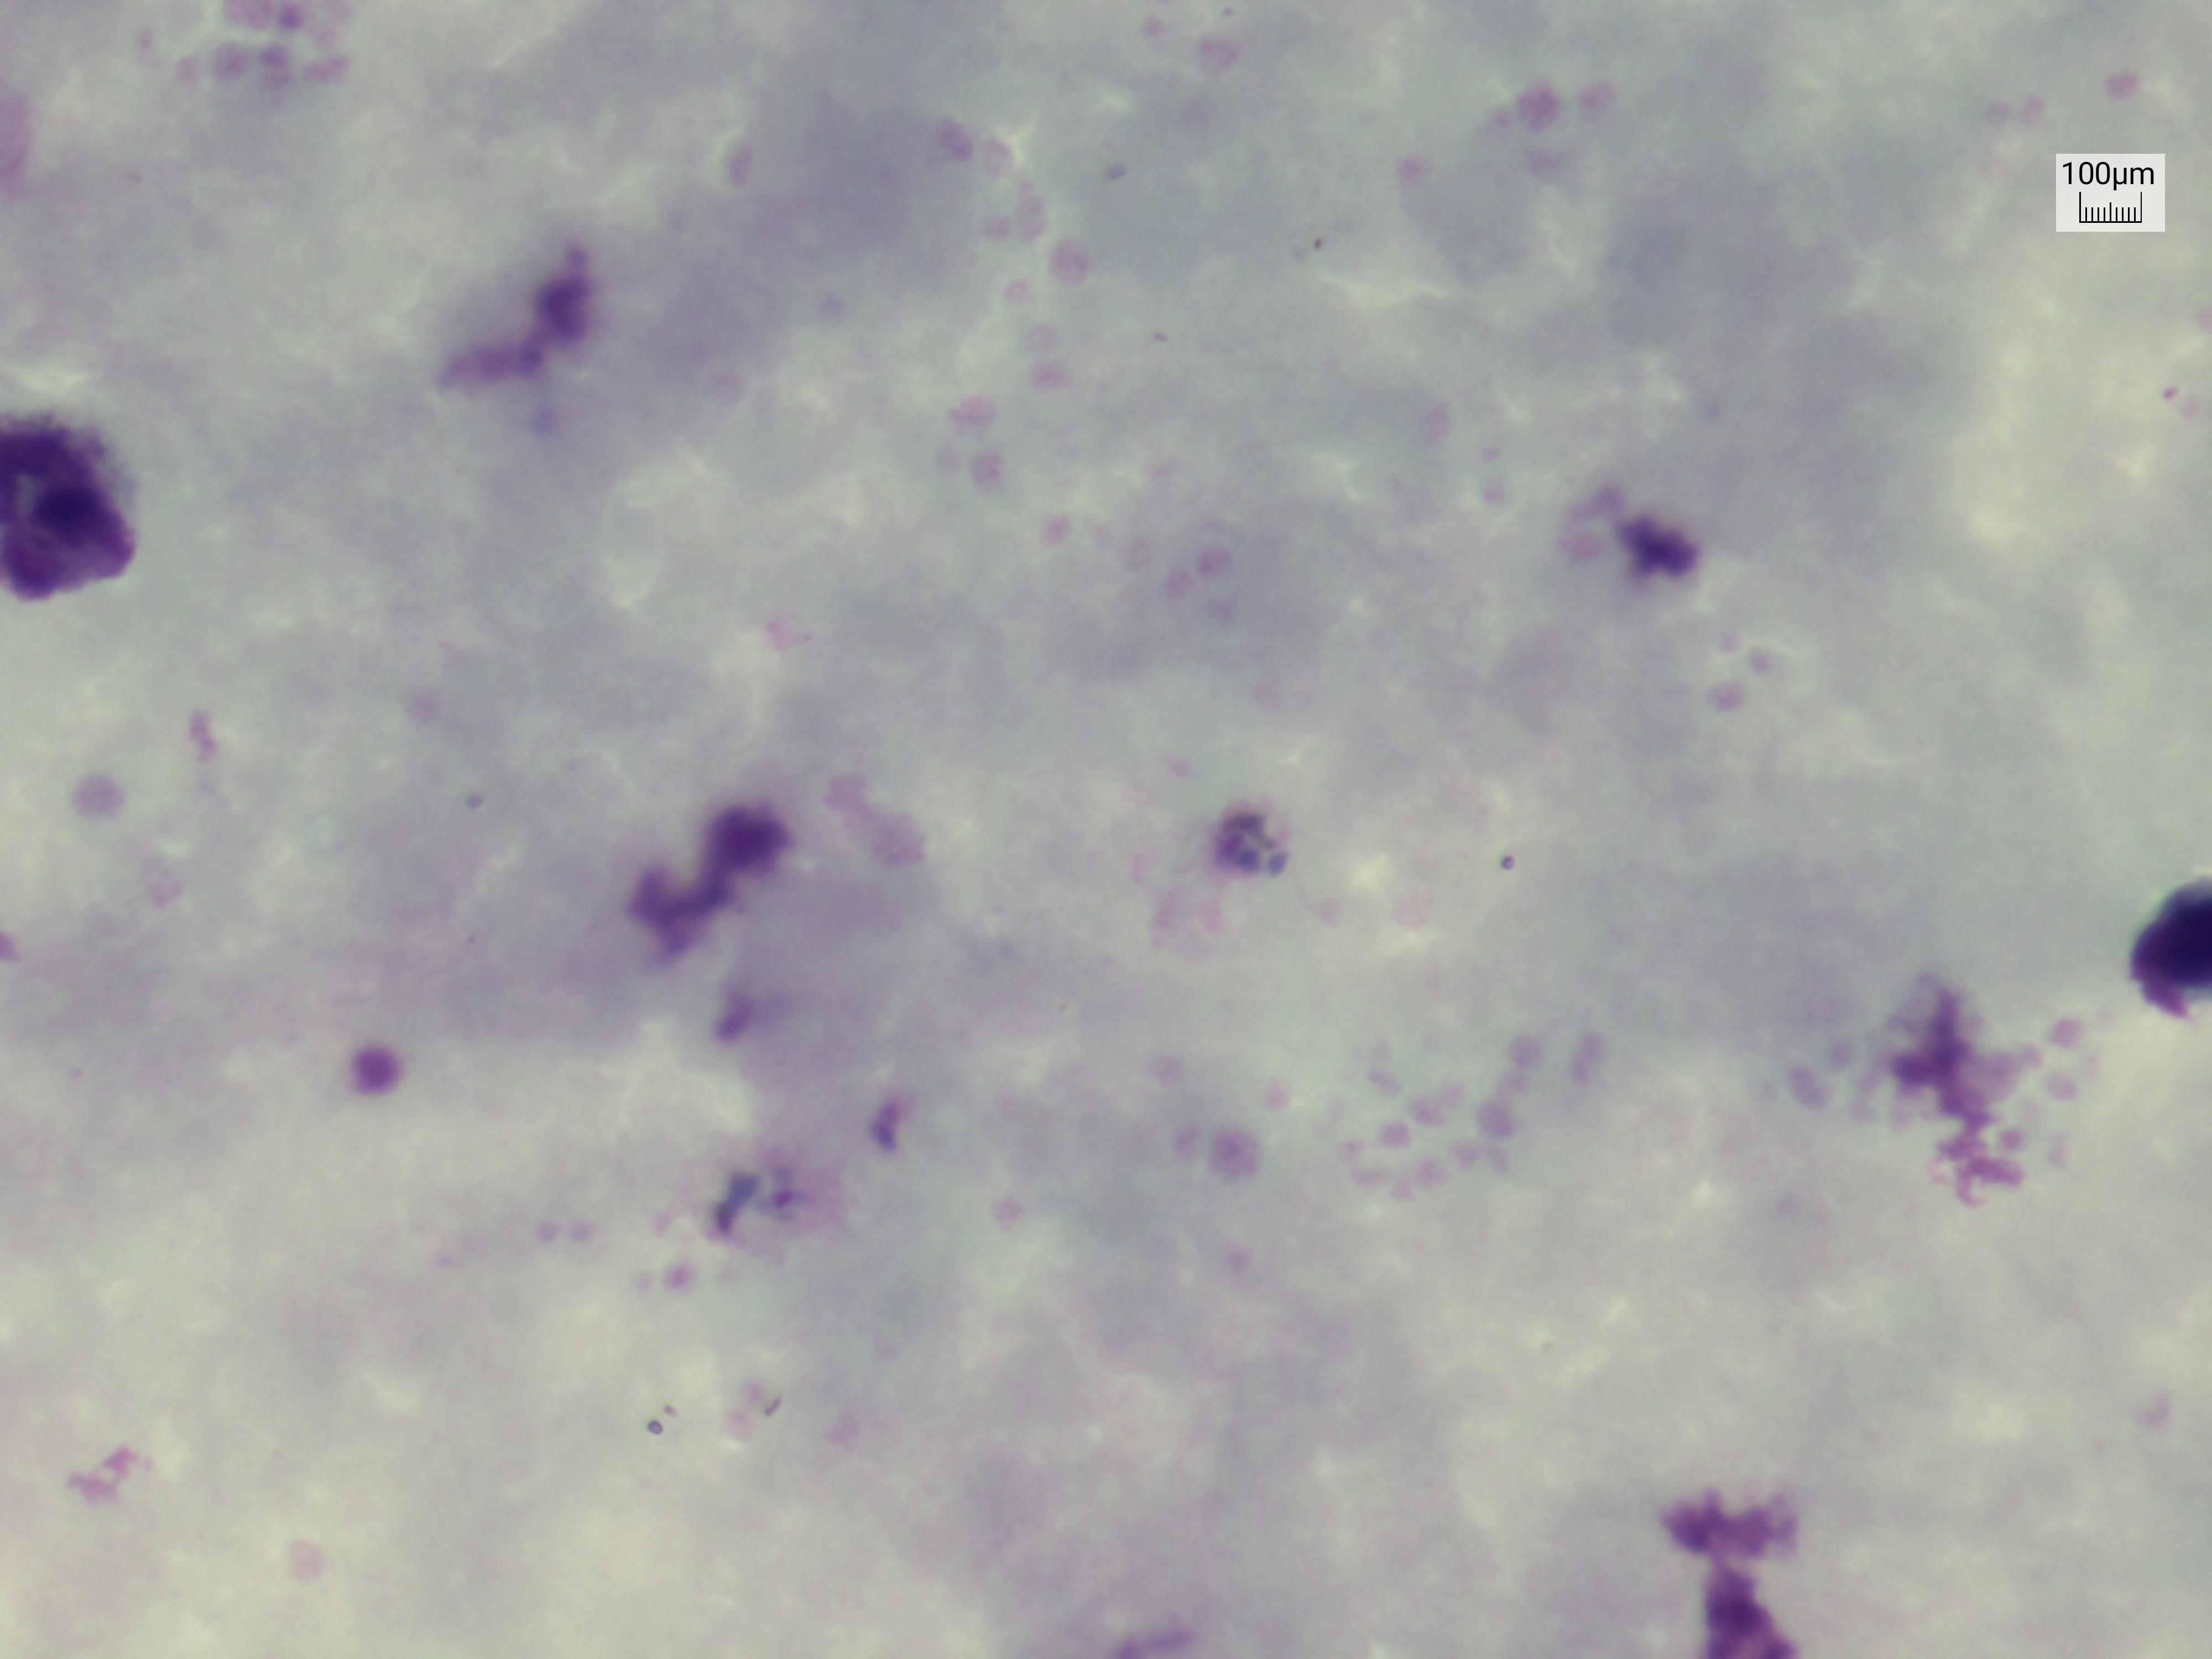p.vivax: (653, 1124, 852, 1284), (1183, 781, 1312, 924), (1595, 493, 1726, 615), (1477, 828, 1548, 918)
